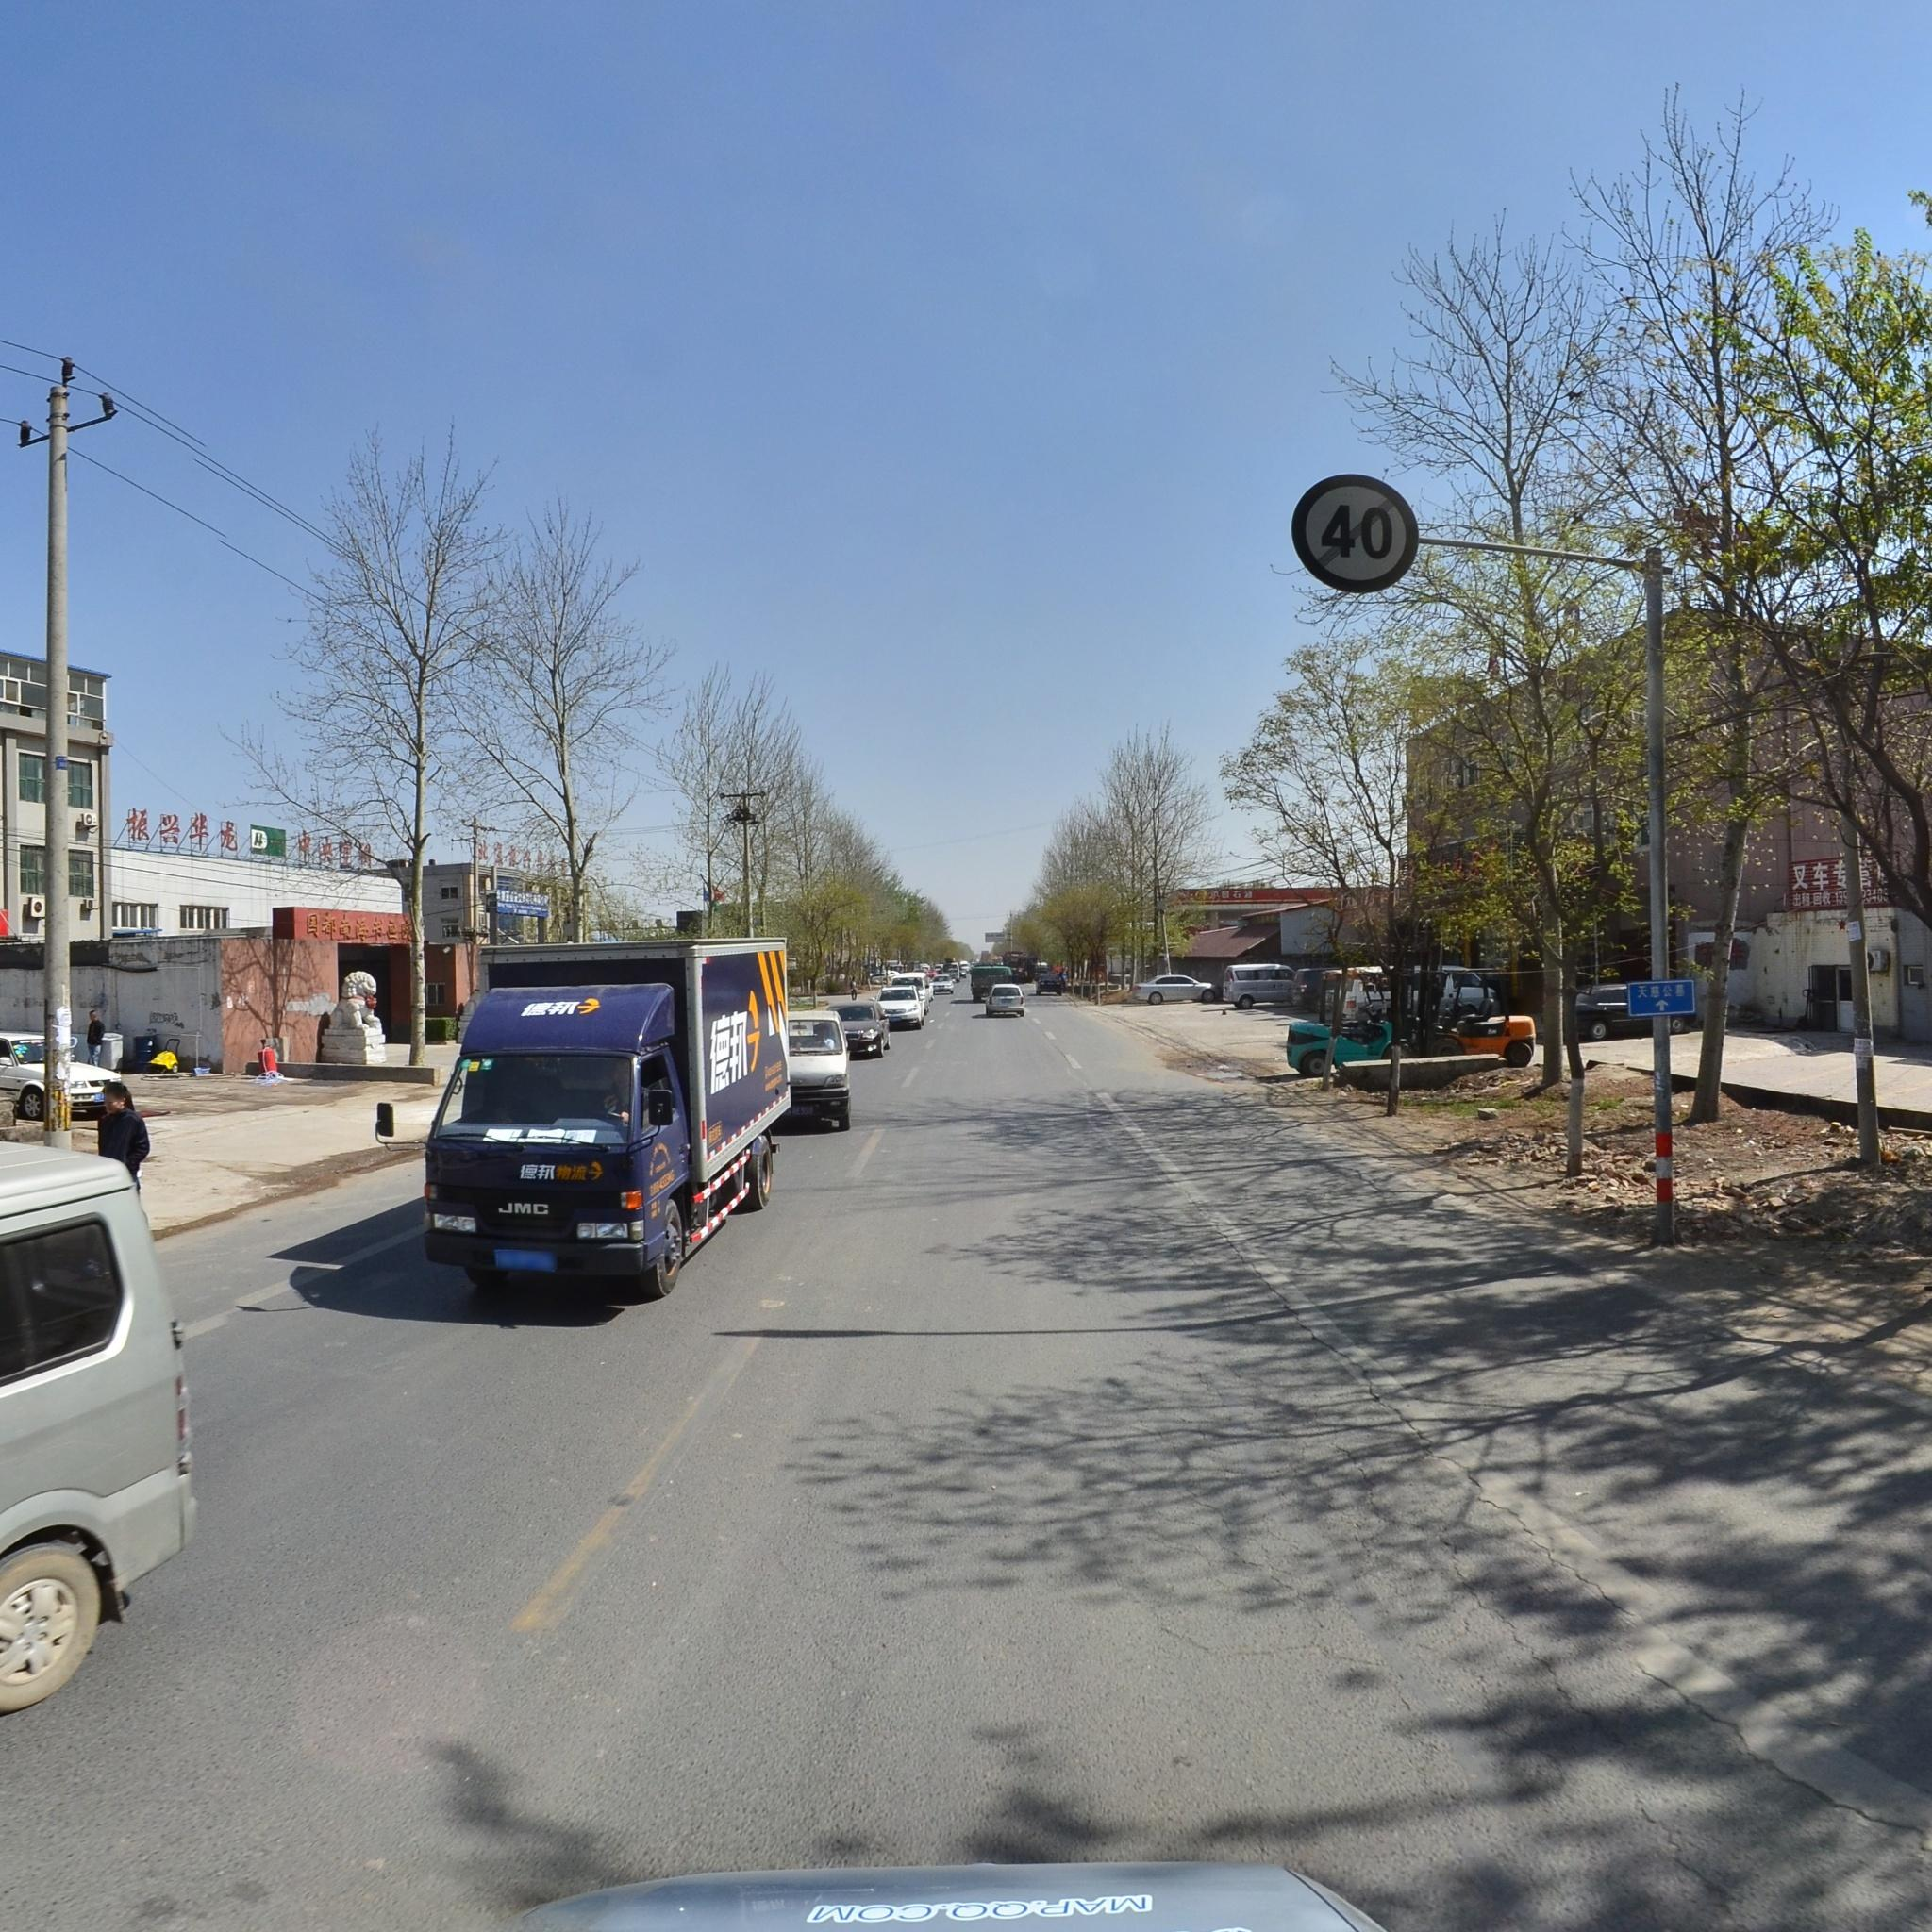pr40: (1292, 478, 1415, 591)
